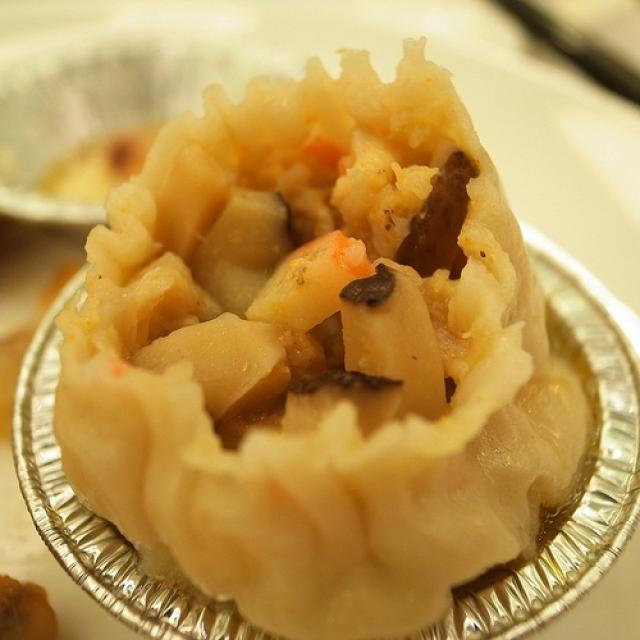带馅早点: (55, 37, 577, 611)
